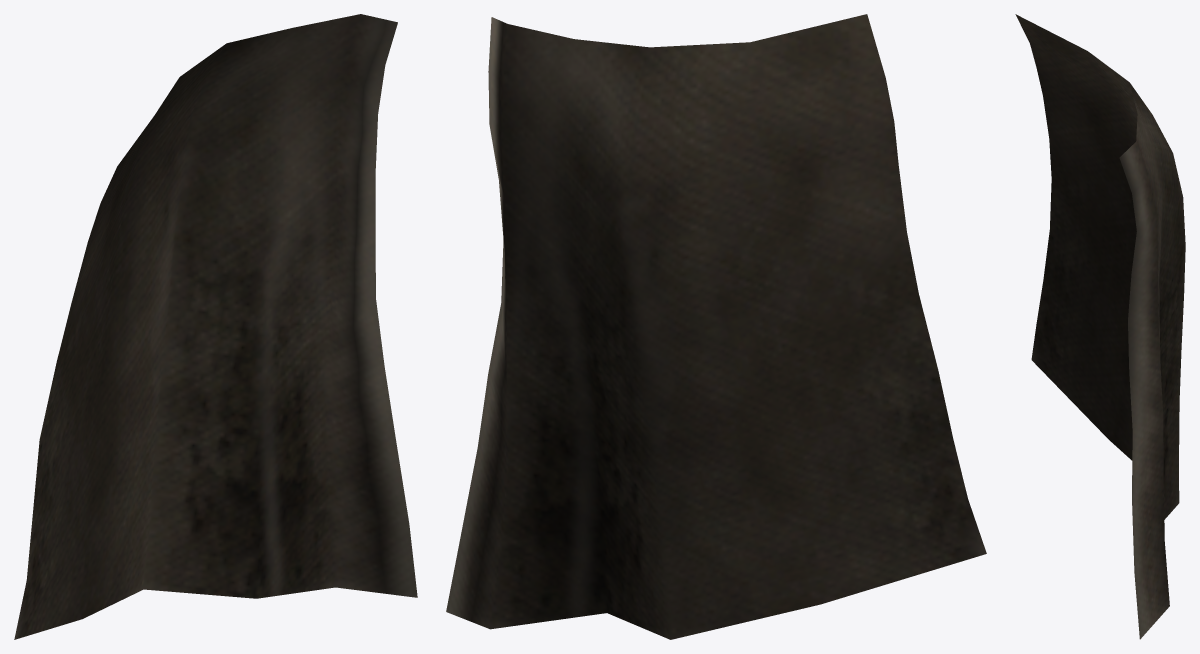
Rendered from clo_dunland_wulf_cape_short_b.fbx.
The picture shows the model from 3 angles, left to right: view 1: azimuth 30°, elevation 25°; view 2: azimuth 150°, elevation 25°; view 3: azimuth 270°, elevation 25°; orthographic projection. The views are drawn at different scales.
Parts seen in each view (by area): view 1: clo_dunland_wulf_cape_short_b; view 2: clo_dunland_wulf_cape_short_b; view 3: clo_dunland_wulf_cape_short_b.
Part boxes in pixels (x1,y1,x2,y2): clo_dunland_wulf_cape_short_b: (14,14,417,639); clo_dunland_wulf_cape_short_b: (446,14,986,639); clo_dunland_wulf_cape_short_b: (1015,14,1185,639).
Size of the model in its own units: 0.2817 by 0.1112 by 0.3556.
1 material, 1 textured.
